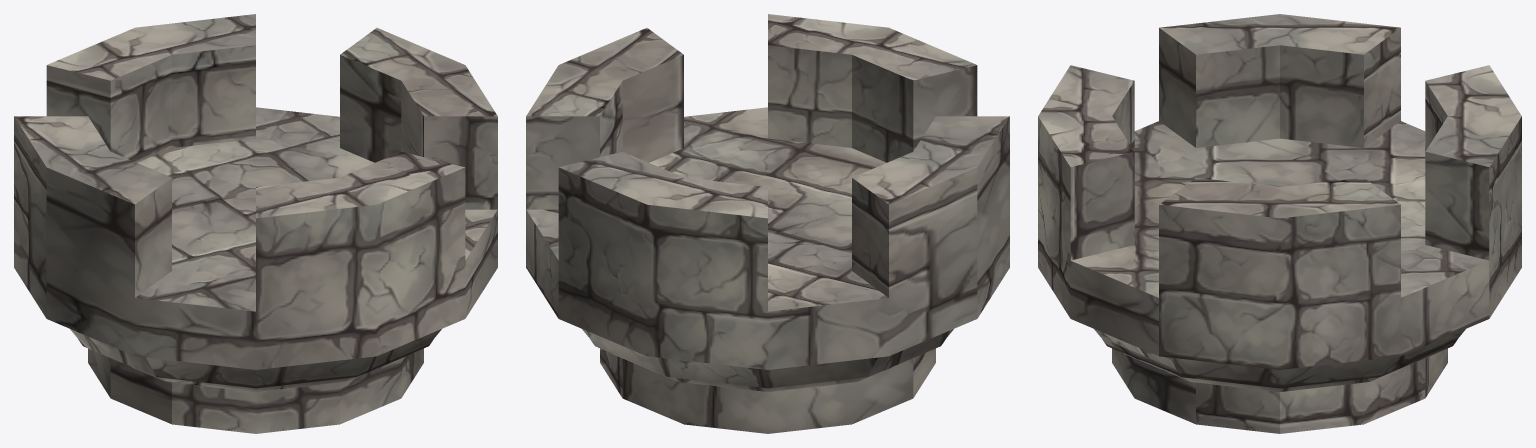
The model's file is TOUR_topA.fbx.
3 views of the same model, side by side, from view 1: azimuth 30°, elevation 25°; view 2: azimuth 150°, elevation 25°; view 3: azimuth 270°, elevation 25° (orthographic).
Visible parts, largest first — view 1: Cylinder.001; view 2: Cylinder.001; view 3: Cylinder.001.
Part boxes in pixels (x1,y1,x2,y2): Cylinder.001: (14,14,497,433); Cylinder.001: (526,14,1009,433); Cylinder.001: (1038,14,1521,433).
Size of the model in its own units: 288 by 162 by 288.
